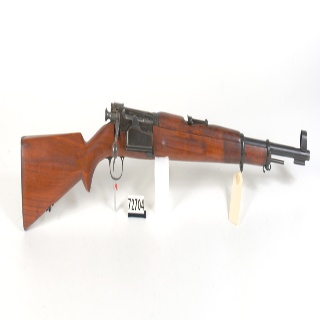rifle: (19, 99, 313, 236)
